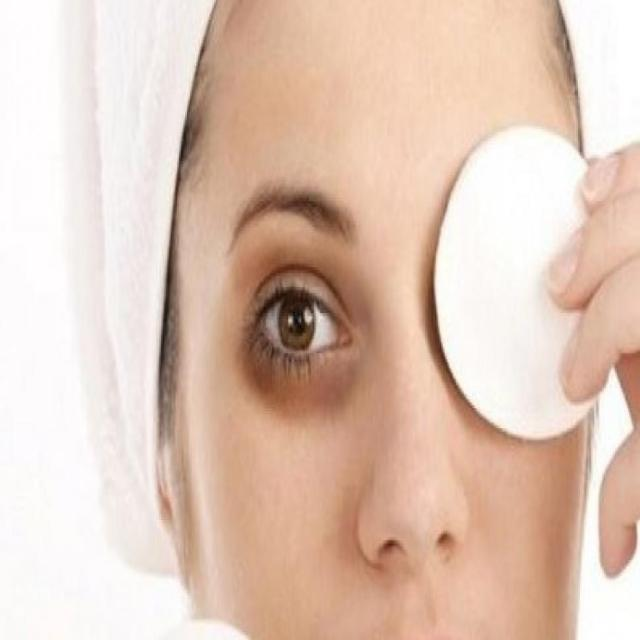Eyebags: (233, 243, 379, 424)
